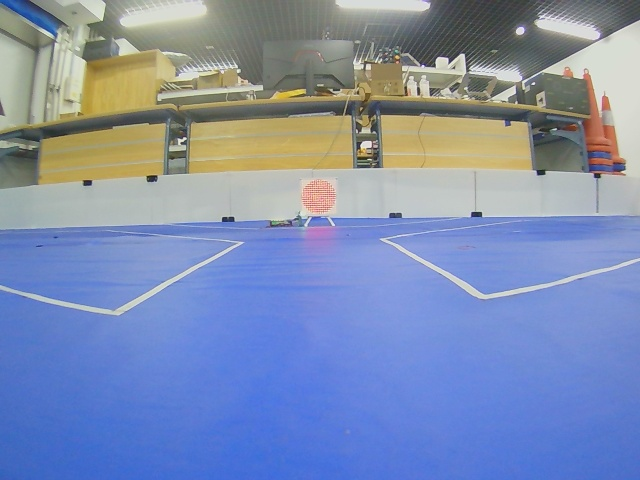red: (301, 179, 337, 216)
